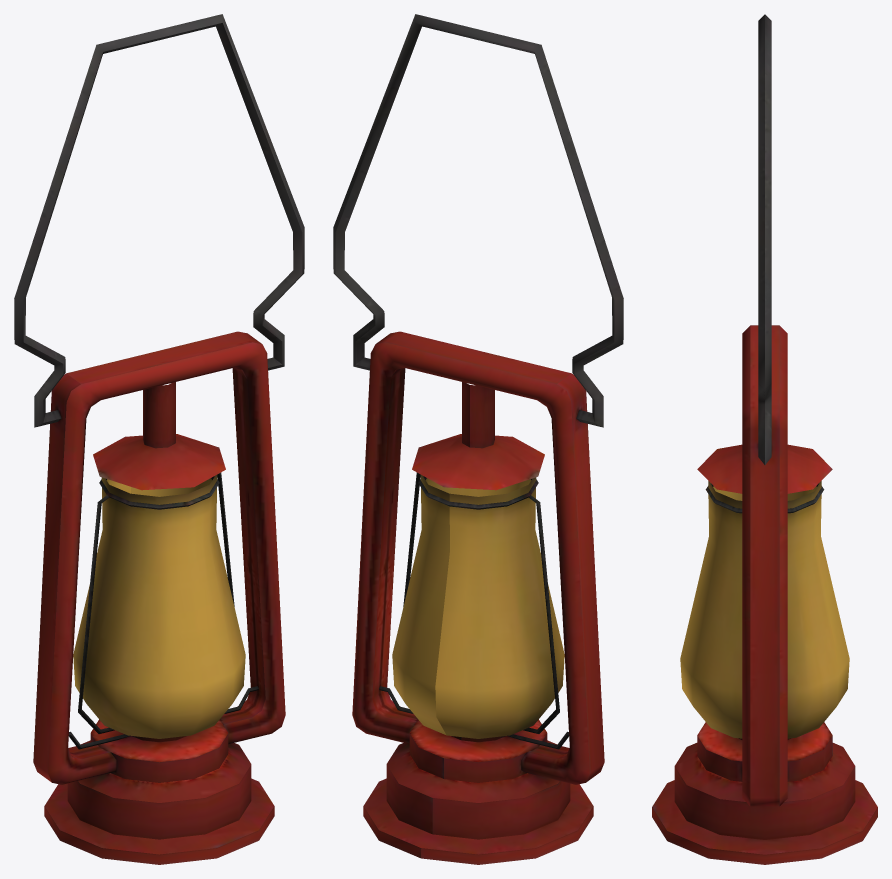
3 renders of one model, left to right at view 1: azimuth 30°, elevation 25°; view 2: azimuth 150°, elevation 25°; view 3: azimuth 270°, elevation 25°, orthographic.
Parts seen in each view (by area): view 1: body0_model0_lod0_mesh1, body0_model0_lod0_mesh0; view 2: body0_model0_lod0_mesh1, body0_model0_lod0_mesh0; view 3: body0_model0_lod0_mesh1, body0_model0_lod0_mesh0.
Boxes of the visible parts, bbox=[...] form: body0_model0_lod0_mesh1: bbox=[14, 14, 304, 864]; body0_model0_lod0_mesh0: bbox=[73, 475, 245, 738]; body0_model0_lod0_mesh1: bbox=[333, 14, 623, 864]; body0_model0_lod0_mesh0: bbox=[392, 475, 564, 738]; body0_model0_lod0_mesh1: bbox=[652, 14, 877, 864]; body0_model0_lod0_mesh0: bbox=[680, 481, 849, 738].
Bounding box in the file's own units: 18.24 × 47.2 × 12.5.
Materials: 2 (2 with a texture image).
